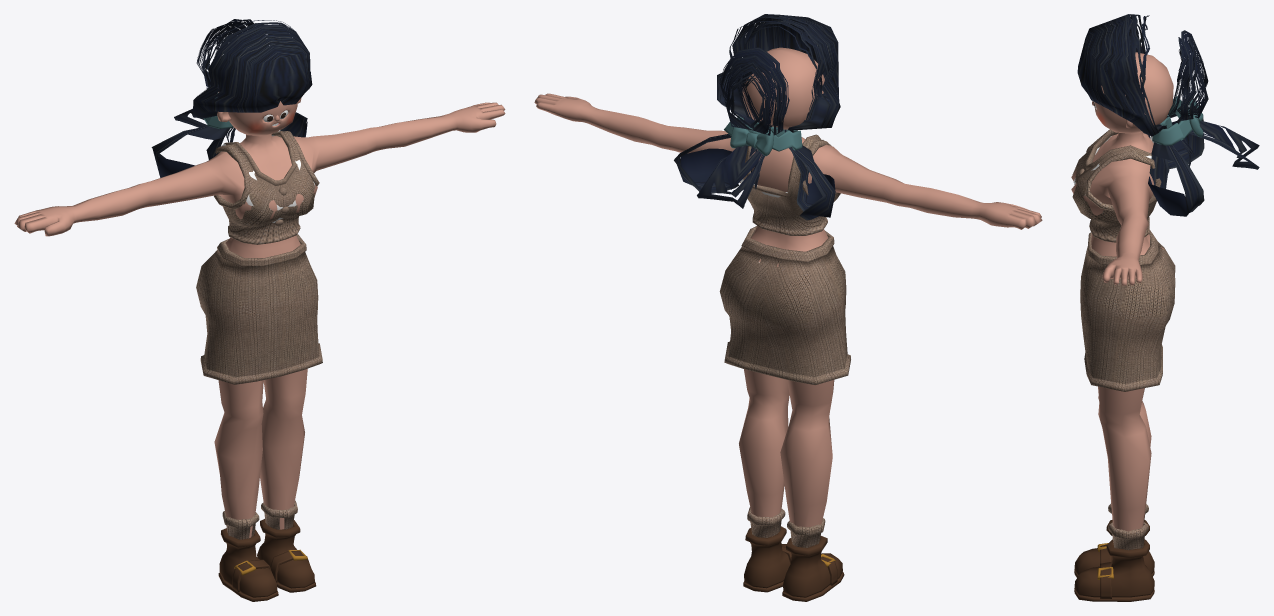
File: Character+Amanda_Model_File+OBJ.obj
3 renders of one model, left to right at view 1: azimuth 30°, elevation 25°; view 2: azimuth 150°, elevation 25°; view 3: azimuth 270°, elevation 25°, orthographic. The views are drawn at different scales.
Visible parts, largest first — view 1: Char_Body_Cube.093, Knit_Skirt_Cube.014, Long_Hair_Cube.013, Sleeveless_Knitwear_Cube.002, Char_Boot_R_Cube.011, Char_Boot_L_Cube.012, Char_Head_Cube.077; view 2: Char_Body_Cube.093, Long_Hair_Cube.013, Knit_Skirt_Cube.014, Char_Boot_R_Cube.011, Sleeveless_Knitwear_Cube.002, Char_Head_Cube.077, Char_Boot_L_Cube.012; view 3: Long_Hair_Cube.013, Char_Body_Cube.093, Knit_Skirt_Cube.014, Char_Boot_L_Cube.012, Sleeveless_Knitwear_Cube.002, Char_Head_Cube.077, Char_Boot_R_Cube.011.
Part boxes in pixels (bbox=[...]): Char_Body_Cube.093: bbox=[14, 102, 505, 537]; Knit_Skirt_Cube.014: bbox=[196, 234, 322, 384]; Long_Hair_Cube.013: bbox=[151, 19, 312, 177]; Sleeveless_Knitwear_Cube.002: bbox=[214, 131, 319, 244]; Char_Boot_R_Cube.011: bbox=[218, 511, 278, 601]; Char_Boot_L_Cube.012: bbox=[257, 500, 316, 592]; Char_Head_Cube.077: bbox=[218, 92, 297, 135]; Char_Body_Cube.093: bbox=[534, 93, 1042, 527]; Long_Hair_Cube.013: bbox=[674, 14, 840, 220]; Knit_Skirt_Cube.014: bbox=[719, 226, 850, 385]; Char_Boot_R_Cube.011: bbox=[782, 518, 844, 601]; Sleeveless_Knitwear_Cube.002: bbox=[739, 134, 840, 235]; Char_Head_Cube.077: bbox=[742, 47, 824, 129]; Char_Boot_L_Cube.012: bbox=[743, 507, 791, 592]; Long_Hair_Cube.013: bbox=[1077, 14, 1259, 216]; Char_Body_Cube.093: bbox=[1071, 46, 1163, 531]; Knit_Skirt_Cube.014: bbox=[1080, 230, 1175, 391]; Char_Boot_L_Cube.012: bbox=[1074, 522, 1154, 601]; Sleeveless_Knitwear_Cube.002: bbox=[1072, 129, 1161, 242]; Char_Head_Cube.077: bbox=[1094, 52, 1173, 133]; Char_Boot_R_Cube.011: bbox=[1074, 503, 1154, 577].
Size of the model in its own units: 1.65 by 1.79 by 0.5416.
